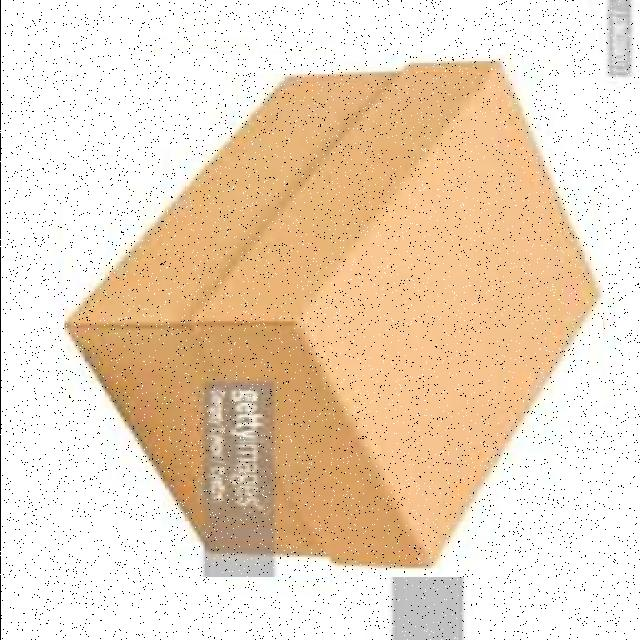normal: (63, 54, 602, 577)
